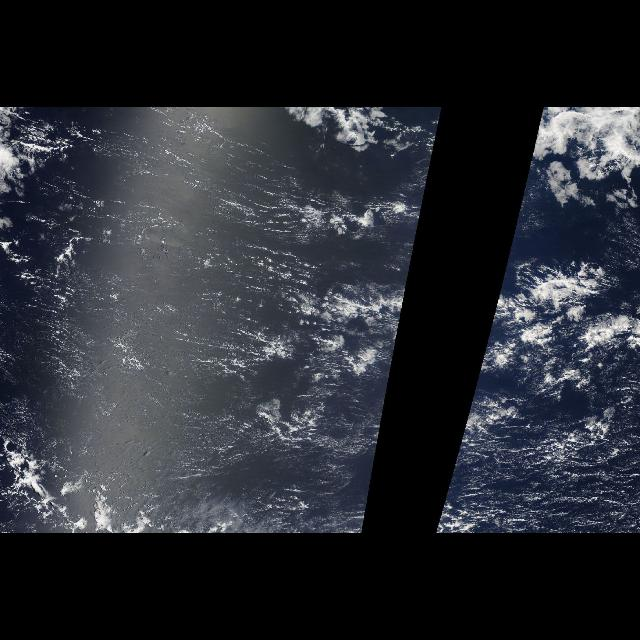Fish: (476, 260, 630, 374), (3, 439, 133, 533), (318, 260, 412, 374)
Sugar: (31, 108, 379, 494), (437, 373, 639, 532)
